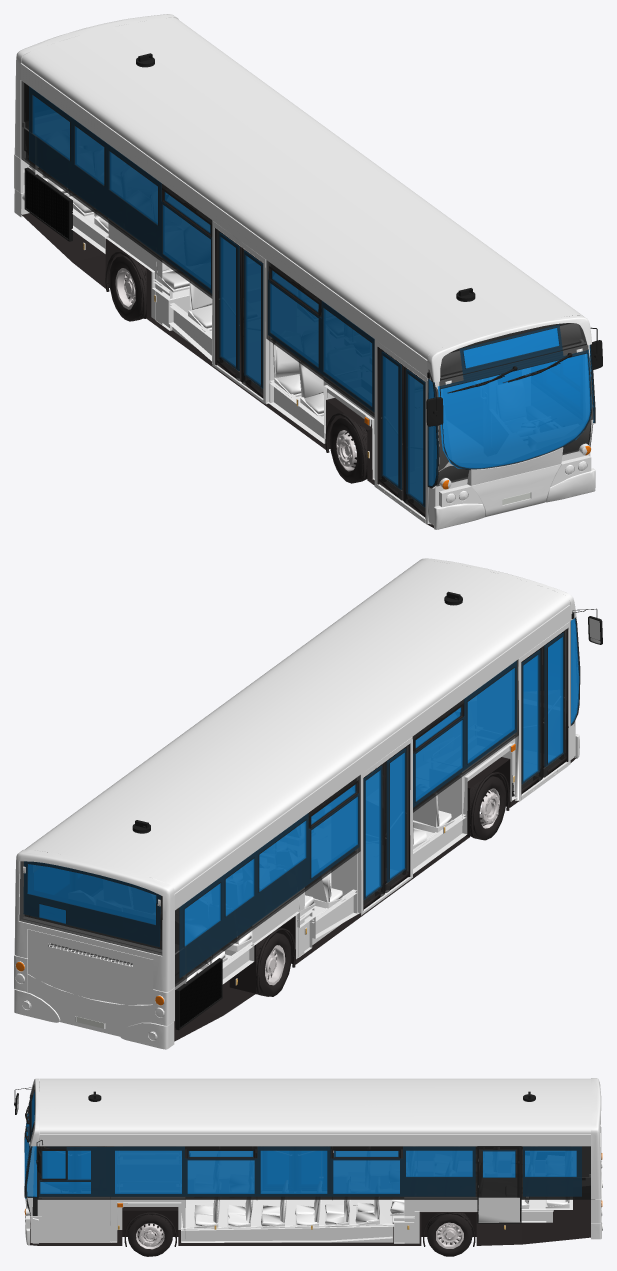
The picture shows the model from 3 angles, top to bottom: view 1: azimuth 30°, elevation 25°; view 2: azimuth 150°, elevation 25°; view 3: azimuth 270°, elevation 25°; orthographic projection. The views are drawn at different scales.
Parts seen in each view (by area): view 1: body, glass, interior, wheel_FL, wheel_RL; view 2: body, glass, interior, wheel_FL, wheel_RL; view 3: body, glass, interior, wheel_RR, wheel_FR.
Part boxes in pixels (left/top/right/bottom): body: left=14, top=14, right=602, bottom=529; glass: left=21, top=81, right=595, bottom=512; interior: left=22, top=122, right=593, bottom=524; wheel_FL: left=326, top=413, right=367, bottom=483; wheel_RL: left=106, top=251, right=146, bottom=321; body: left=14, top=558, right=602, bottom=1049; glass: left=19, top=617, right=580, bottom=986; interior: left=22, top=621, right=575, bottom=989; wheel_FL: left=470, top=772, right=509, bottom=840; wheel_RL: left=256, top=928, right=295, bottom=996; body: left=14, top=1078, right=602, bottom=1246; glass: left=24, top=1084, right=600, bottom=1223; interior: left=27, top=1087, right=590, bottom=1243; wheel_RR: left=424, top=1212, right=474, bottom=1256; wheel_FR: left=125, top=1212, right=176, bottom=1256.
Size of the model in its own units: 2.93 by 3.14 by 11.47.
